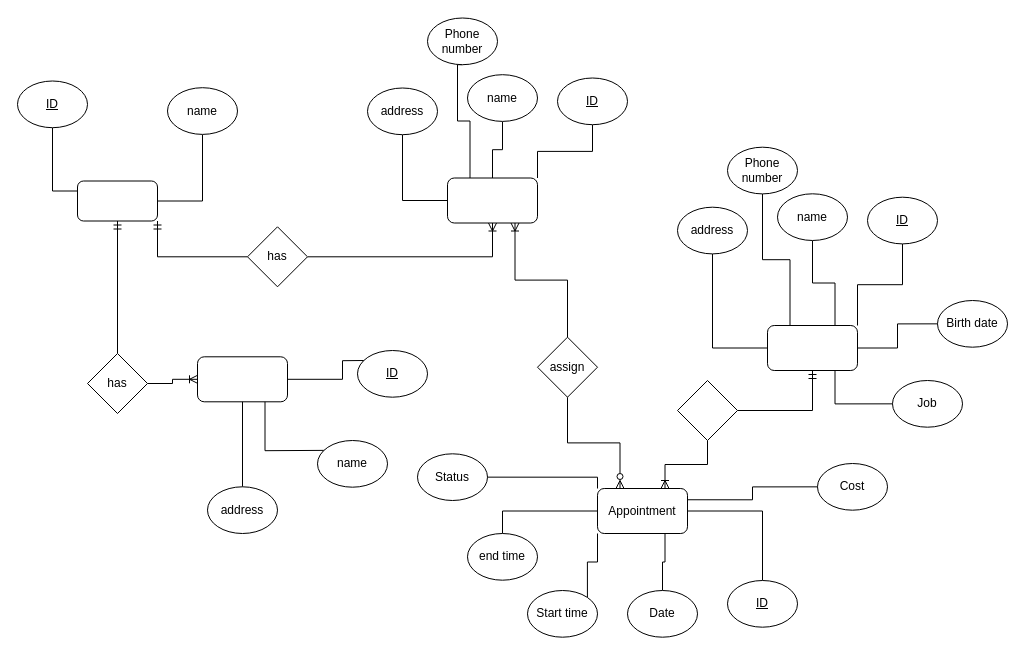
This 1025x655 diagram has some shape labels left out. The box of each missing label's shape, as (x1, y1, x2, y2) in pixels:
book: (676, 380, 738, 440)
clinic: (196, 356, 288, 402)
Department: (76, 180, 158, 221)
doctor: (446, 177, 538, 223)
Patient: (766, 324, 858, 370)
